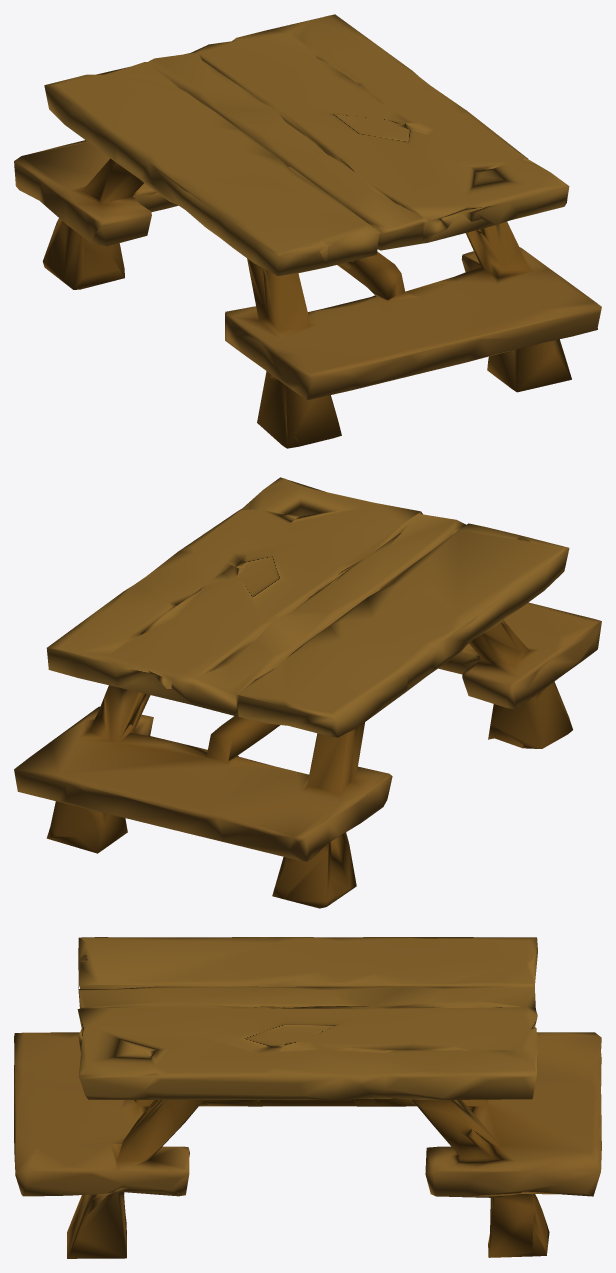
File: gen3d-picnic-table-lod0.glb
3 renders of one model, top to bottom at view 1: azimuth 30°, elevation 25°; view 2: azimuth 150°, elevation 25°; view 3: azimuth 270°, elevation 25°, orthographic. The views are drawn at different scales.
Visible parts, largest first — view 1: part_0; view 2: part_0; view 3: part_0.
Part boxes in pixels (bbox=[...]): part_0: bbox=[14, 14, 601, 448]; part_0: bbox=[14, 477, 601, 908]; part_0: bbox=[14, 937, 601, 1258].
Size of the model in its own units: 1.61 by 0.9999 by 2.87.
